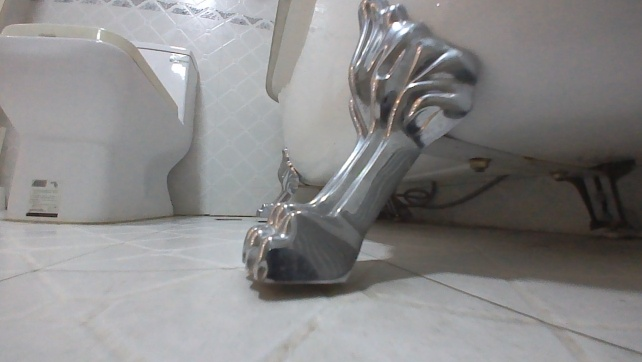toilet: (0, 21, 200, 223)
wire: (392, 173, 510, 210)
